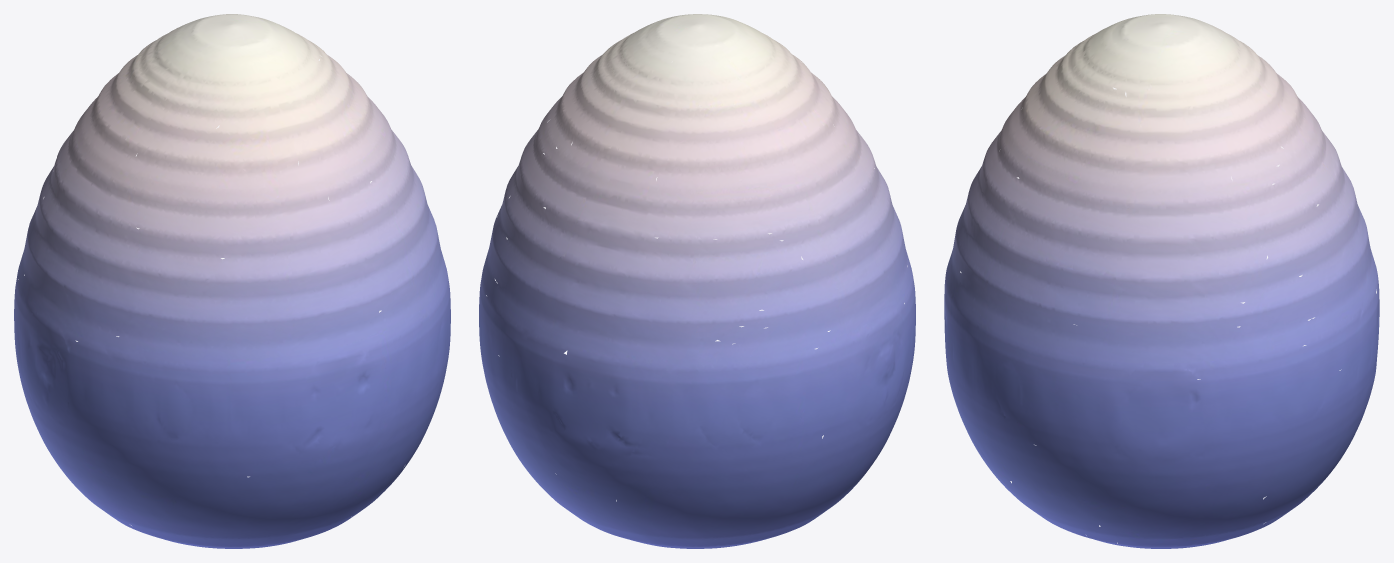
Rendered from egg.glb.
3 renders of one model, left to right at view 1: azimuth 30°, elevation 25°; view 2: azimuth 150°, elevation 25°; view 3: azimuth 270°, elevation 25°, orthographic.
Parts seen in each view (by area): view 1: egg; view 2: egg; view 3: egg.
Boxes of the visible parts, bbox=[...] form: egg: bbox=[14, 14, 450, 548]; egg: bbox=[479, 14, 915, 548]; egg: bbox=[944, 14, 1379, 548].
Size of the model in its own units: 0.7896 by 0.9804 by 0.789.
1 material, 1 textured.
